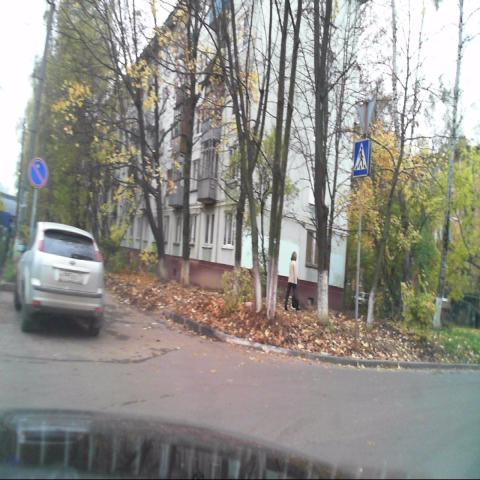3_28: (29, 157, 48, 189)
